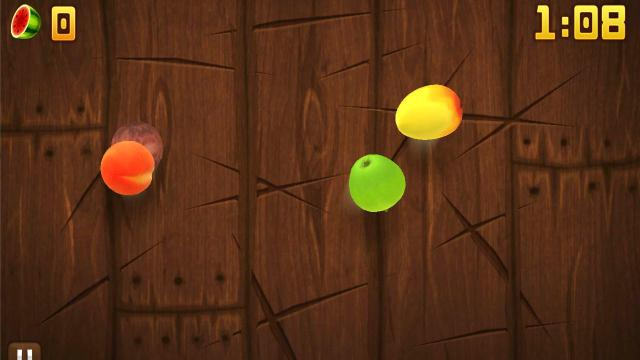fruit: (394, 84, 462, 140), (348, 152, 406, 212), (99, 140, 155, 198), (110, 118, 164, 172)
ignore: (10, 4, 42, 40)
